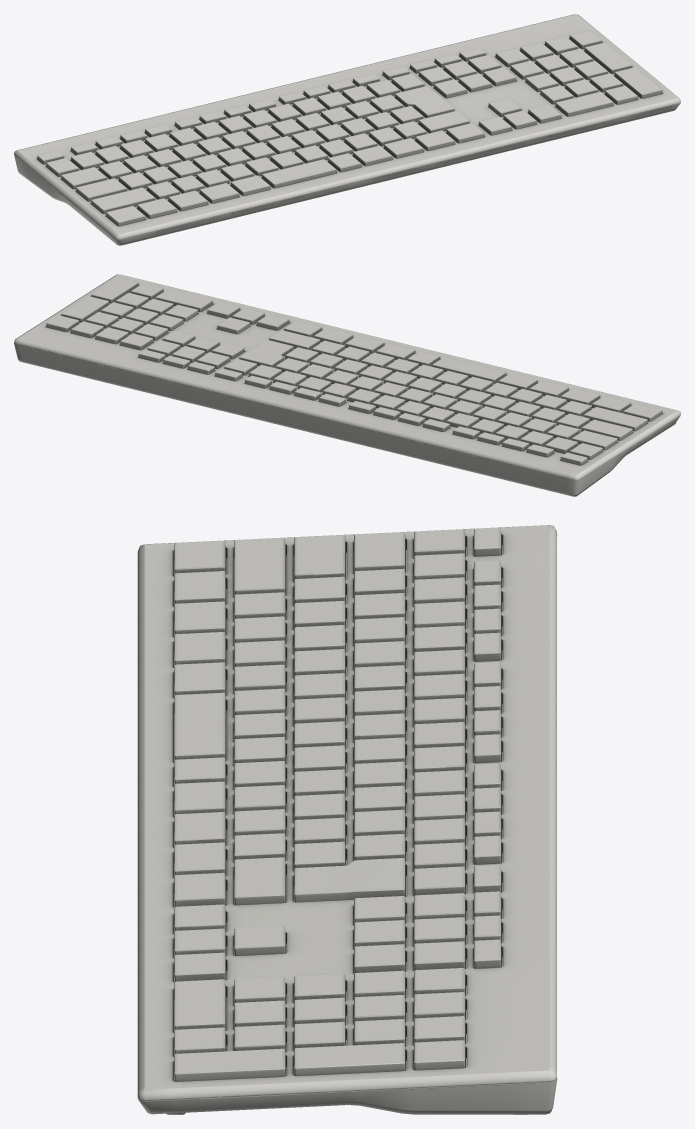
The model's file is Keyboard-NoText.fbx.
3 renders of one model, top to bottom at view 1: azimuth 30°, elevation 25°; view 2: azimuth 150°, elevation 25°; view 3: azimuth 270°, elevation 25°, orthographic. The views are drawn at different scales.
Parts seen in each view (by area): view 1: Keyboard-NoText; view 2: Keyboard-NoText; view 3: Keyboard-NoText.
Part boxes in pixels (box(x1,y1,x2,y2)): Keyboard-NoText: box(14, 14, 680, 245); Keyboard-NoText: box(14, 274, 680, 496); Keyboard-NoText: box(137, 525, 557, 1114).
Size of the model in its own units: 43.5 by 2.11 by 13.99.
1 material, 1 textured.
